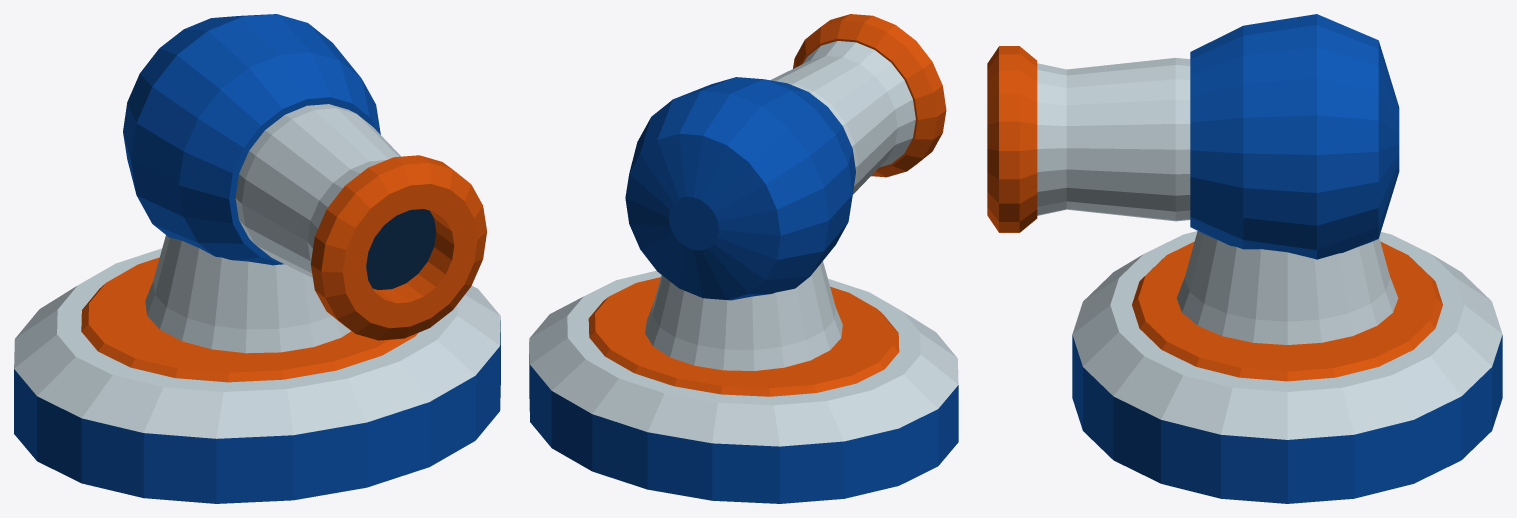
The model's file is WaterBallCannon.glb.
The picture shows the model from 3 angles, left to right: view 1: azimuth 30°, elevation 25°; view 2: azimuth 150°, elevation 25°; view 3: azimuth 270°, elevation 25°; orthographic projection. The views are drawn at different scales.
Parts seen in each view (by area): view 1: CannonBase, CannonNozzle; view 2: CannonBase, CannonNozzle; view 3: CannonBase, CannonNozzle.
Part boxes in pixels (x1,y1,x2,y2): CannonBase: (14,235,500,503); CannonNozzle: (123,14,486,340); CannonBase: (529,261,958,503); CannonNozzle: (625,14,946,300); CannonBase: (1072,231,1502,503); CannonNozzle: (987,14,1399,259).
Bounding box in the file's own units: 1.7 × 1.47 × 1.75.
